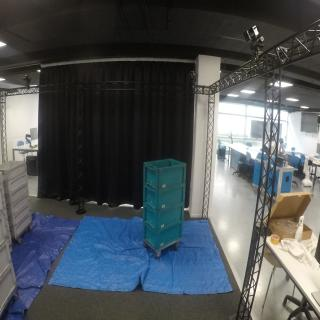BoxB4: (142, 157, 190, 188), (146, 186, 189, 209), (145, 225, 186, 246), (144, 207, 187, 225)
